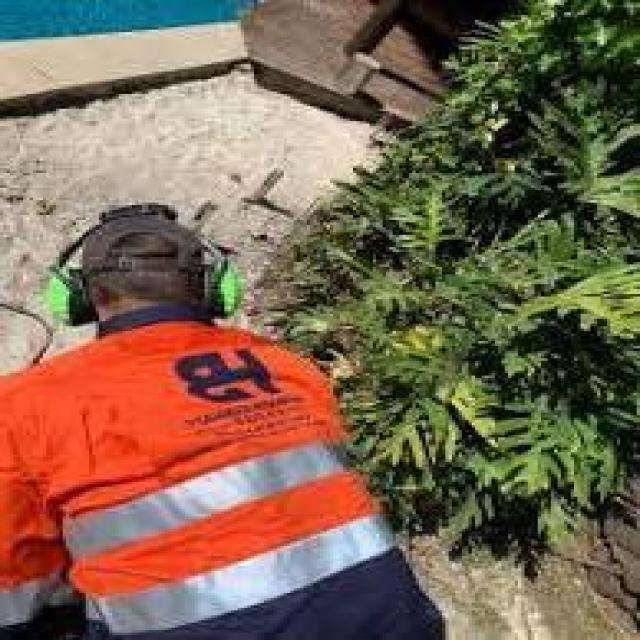Reflective-Jacket: (0, 318, 402, 620)
